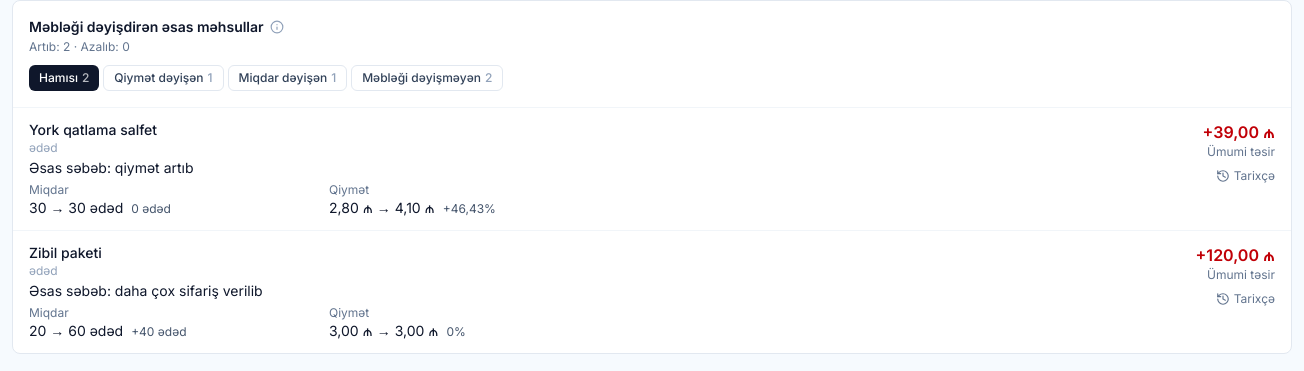
Scenario: the products whose money did not move › list each in the same row form, its pill naming its state in slate
The width and height of the screenshot is (1304, 371).
Click the button "Məbləği dəyişməyən2". click: coordinates (427, 78)
box: x1=351 y1=65 x2=504 y2=91
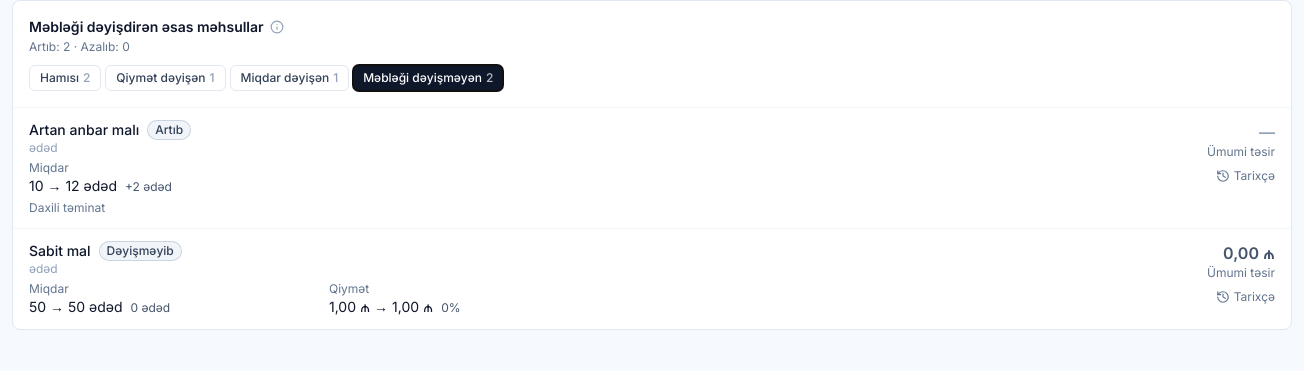
Result: the button "Əsas səbəb" is gone
Result: the text "50 → 50 ədəd" is shown at x1=29 y1=298 x2=123 y2=315
Result: the text "1,00 ₼ → 1,00 ₼" is shown at x1=329 y1=298 x2=433 y2=315
